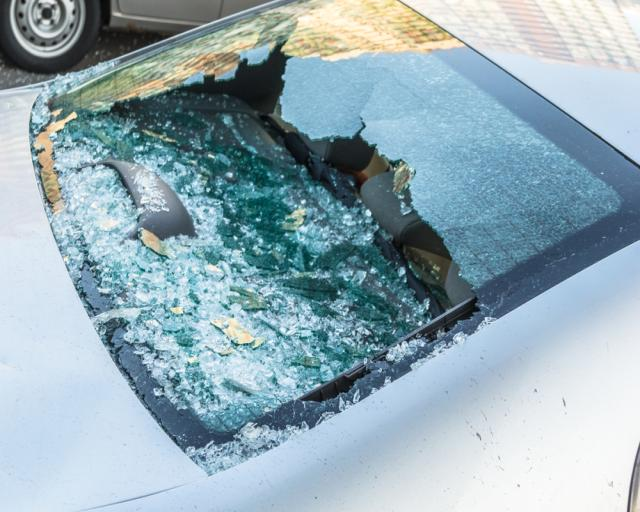glass shatter: (30, 0, 640, 476)
